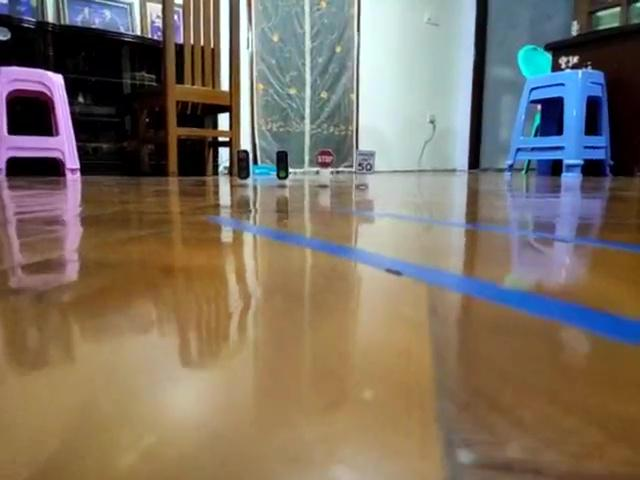Green Traffic Light: (276, 149, 290, 179)
Red Traffic Light: (236, 146, 251, 181)
Speed Limit 50: (353, 149, 376, 173)
Stop Sign: (316, 150, 336, 169)
